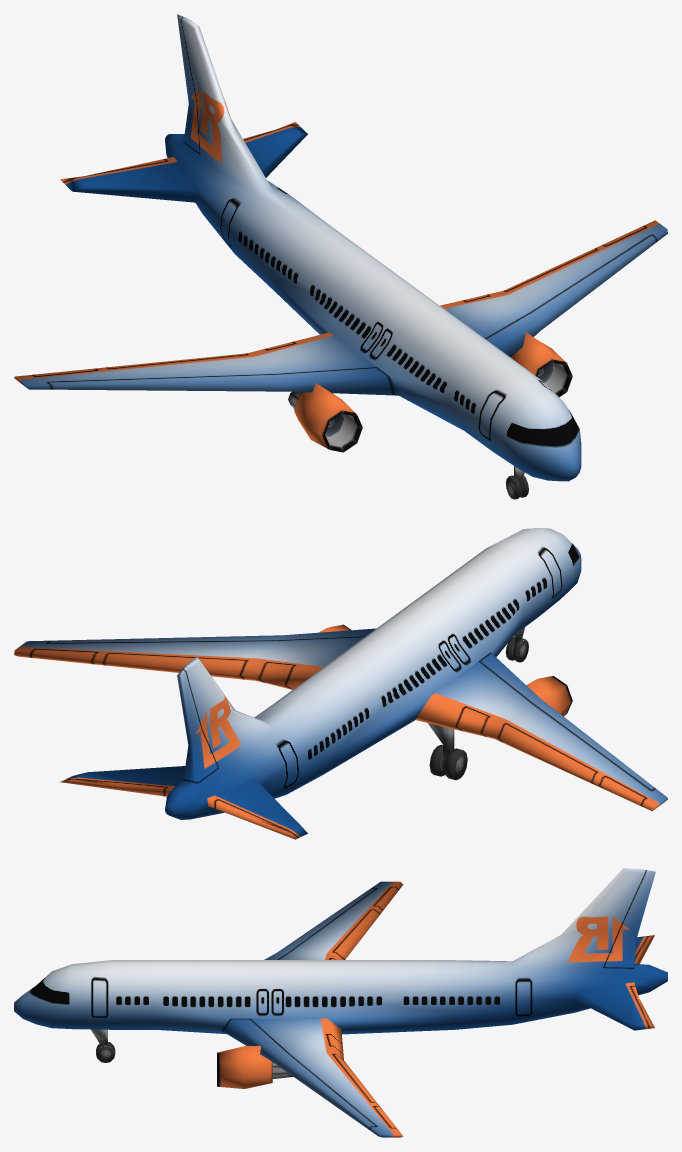
The model's file is Jet Airliner.fbx.
The picture shows the model from 3 angles, top to bottom: view 1: azimuth 30°, elevation 25°; view 2: azimuth 150°, elevation 25°; view 3: azimuth 270°, elevation 25°; orthographic projection. The views are drawn at different scales.
Visible parts, largest first — view 1: aeroplane_body; view 2: aeroplane_body, aeroplane_undercarriage; view 3: aeroplane_body, aeroplane_undercarriage.
Part boxes in pixels (x1,y1,x2,y2): aeroplane_body: (14,14,667,481); aeroplane_body: (14,528,667,839); aeroplane_undercarriage: (428,627,528,780); aeroplane_body: (14,868,667,1137); aeroplane_undercarriage: (91,1029,115,1062).
Size of the model in its own units: 3399 by 1208 by 3718.
